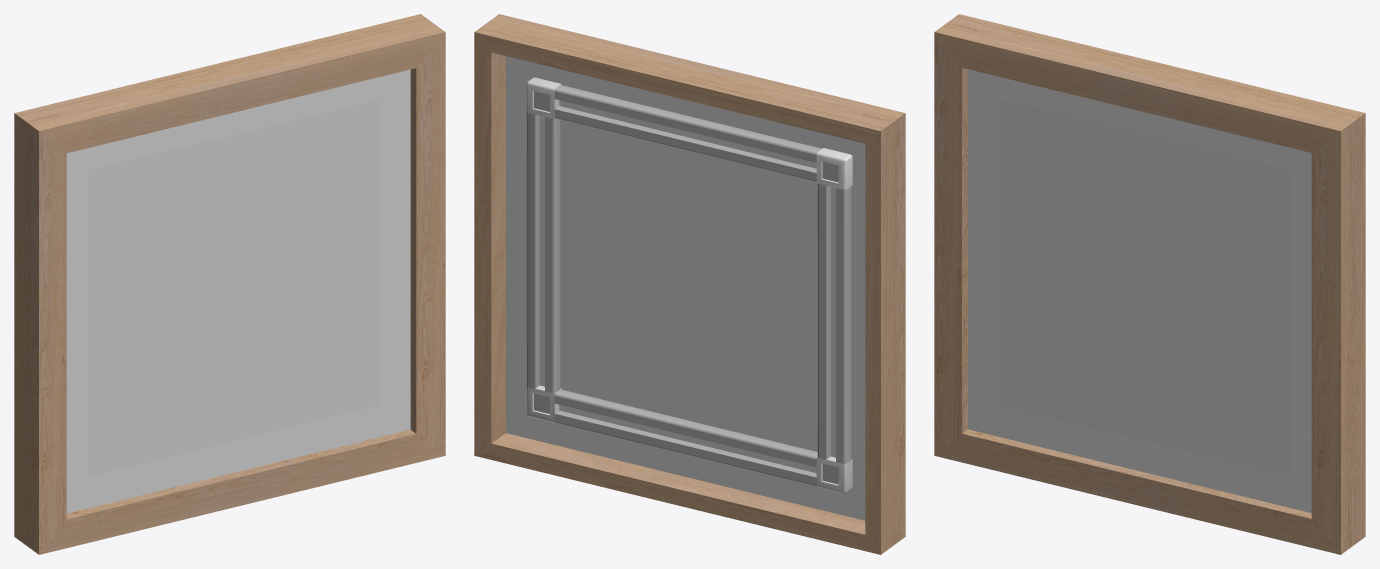
File: frame.glb
3 views of the same model, side by side, from view 1: azimuth 30°, elevation 25°; view 2: azimuth 150°, elevation 25°; view 3: azimuth 330°, elevation 25° (orthographic).
Parts seen in each view (by area): view 1: holst, frame1, white; view 2: holst, frame1; view 3: holst, frame1, white.
Part boxes in pixels (x1=…): holst: x1=66, y1=70, x2=410, y2=513; frame1: x1=14, y1=14, x2=445, y2=554; white: x1=67, y1=70, x2=410, y2=512; holst: x1=506, y1=56, x2=865, y2=520; frame1: x1=474, y1=14, x2=905, y2=554; holst: x1=968, y1=69, x2=1311, y2=512; frame1: x1=934, y1=14, x2=1365, y2=554; white: x1=968, y1=69, x2=1311, y2=512.
Bounding box in the file's own units: 0.2798 × 0.2788 × 0.0295.
Materials: 7 (1 with a texture image).
